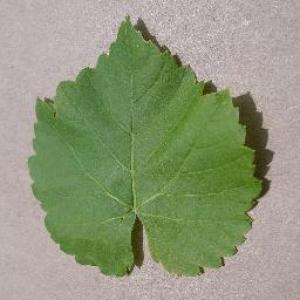Folha: (27, 13, 264, 278)
